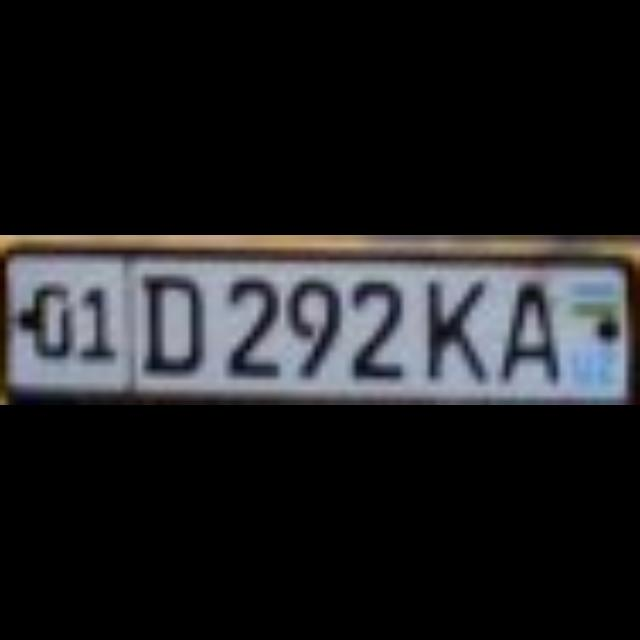1: (74, 282, 116, 358), (28, 283, 68, 351)
2: (218, 269, 272, 371), (347, 270, 395, 378)
9: (279, 269, 333, 371)
A: (497, 276, 551, 372)
D: (136, 270, 190, 364)
K: (415, 269, 483, 371)
